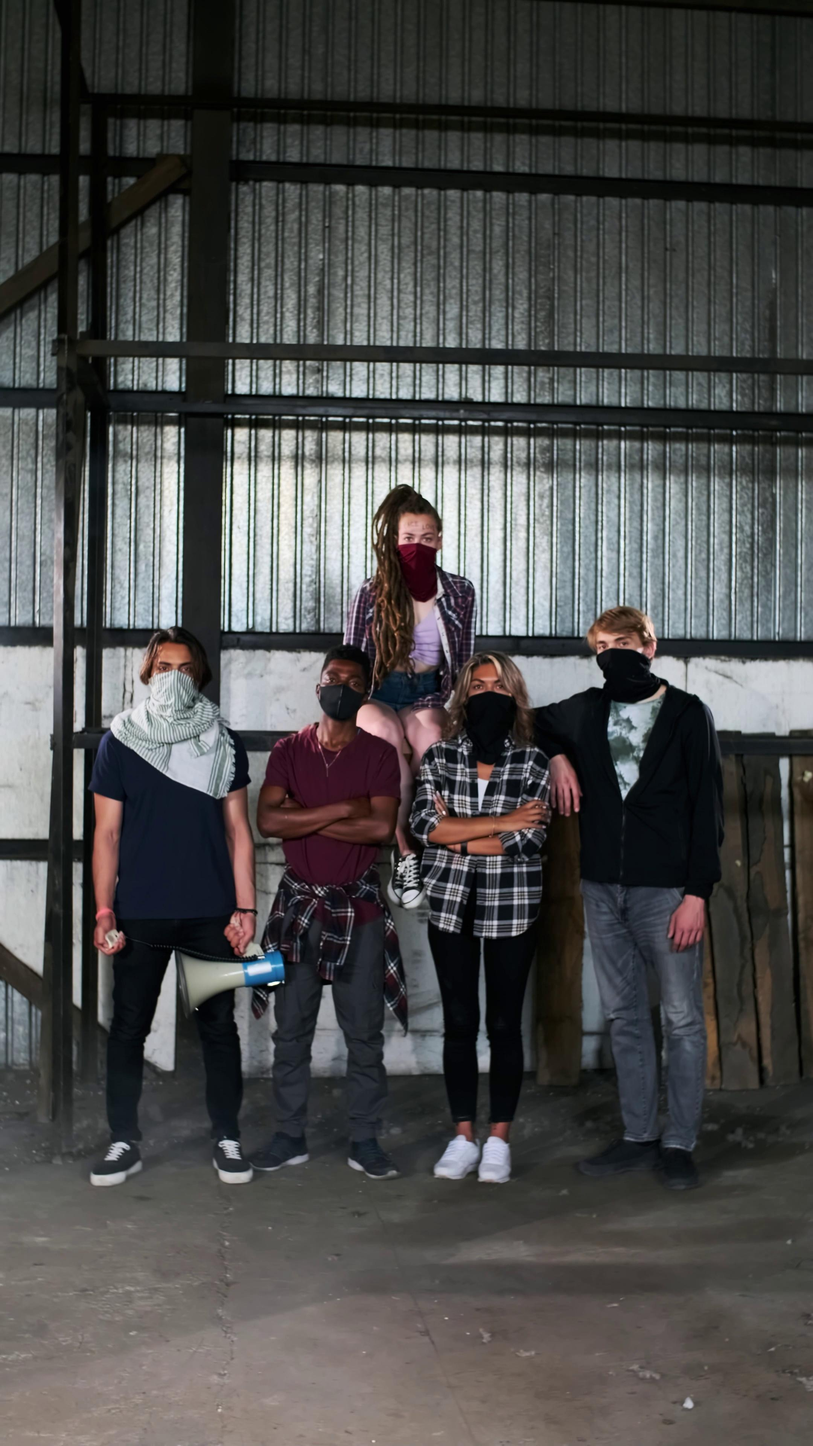mask: (466, 692, 516, 766), (596, 648, 659, 704), (146, 669, 200, 724), (397, 542, 439, 602), (316, 683, 365, 722)
person: (533, 604, 725, 1193), (82, 625, 258, 1191), (246, 645, 409, 1183), (407, 651, 555, 1186), (342, 483, 477, 912)
